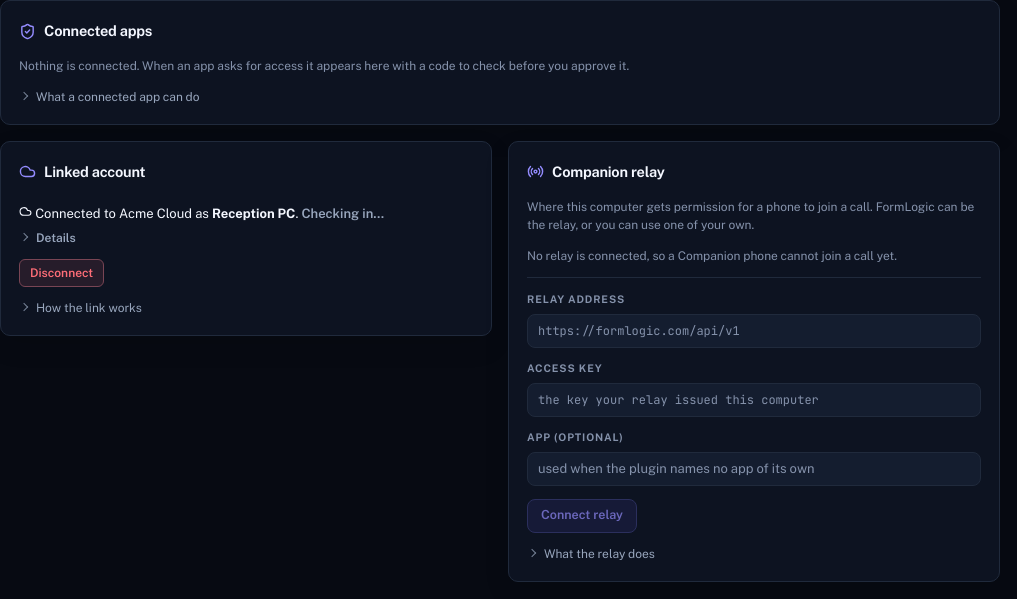
Scenario: ConnectionsPanel · Linked account › does not say Disconnected when the host could not remove the stored link, and keeps the account on the card
The width and height of the screenshot is (1017, 599).
Click the button "Disconnect".
click(62, 273)  # box [19,259,104,287]
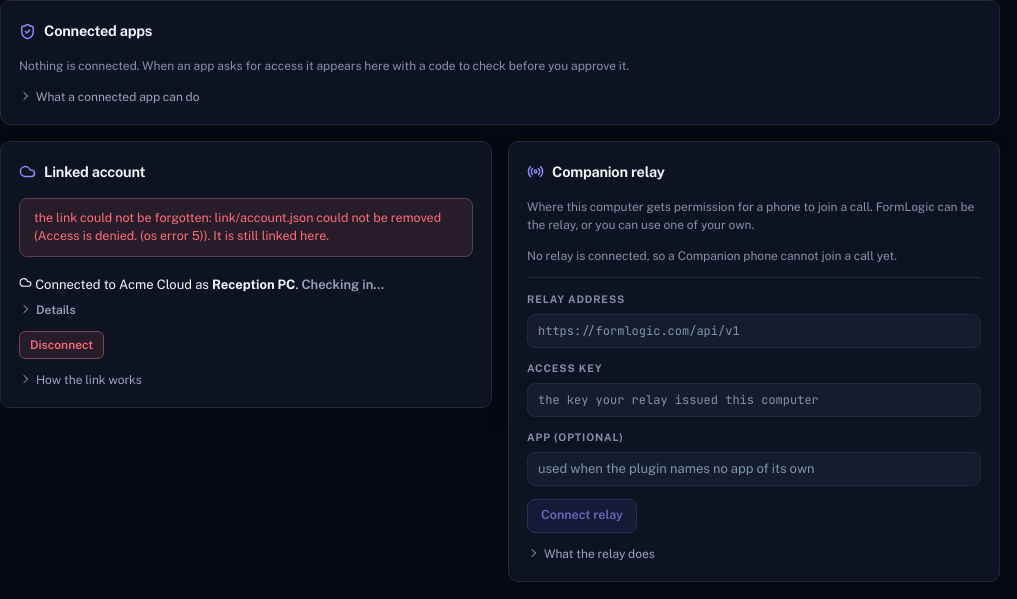
Check: the text "Reception PC" is shown, box [212,277,295,292]
Check: the number of messages is 1, box [19,198,473,257]
Check: the message shows "could not be removed", box [34,210,441,243]
